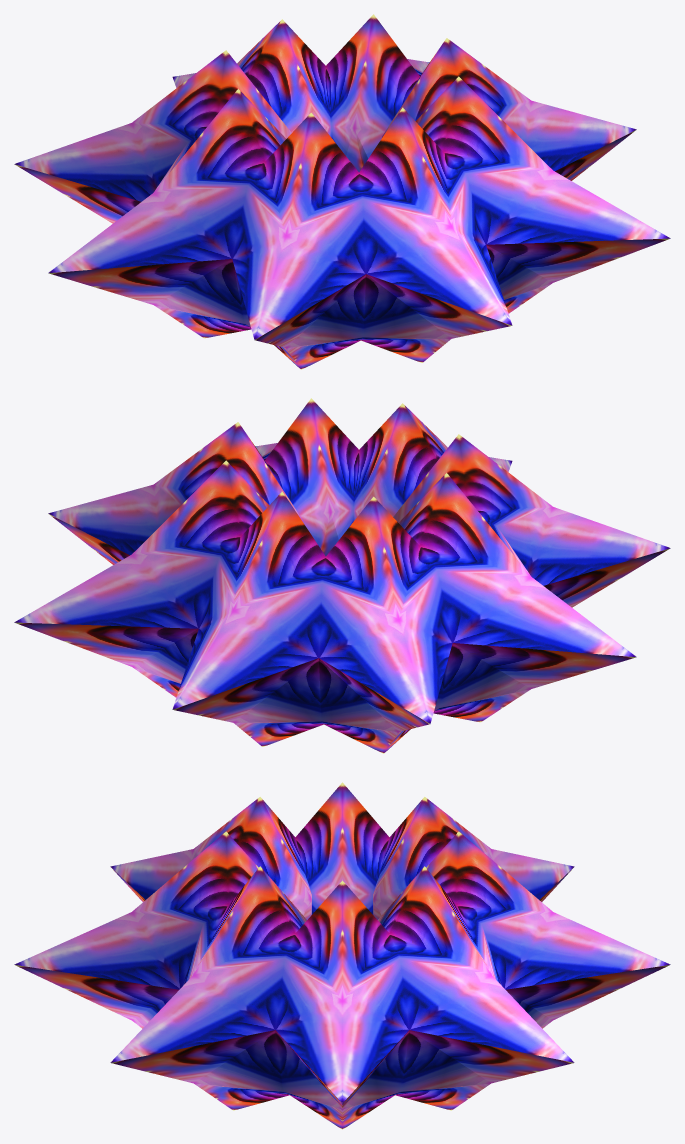
File: ufo-11.fbx
The picture shows the model from 3 angles, top to bottom: view 1: azimuth 30°, elevation 25°; view 2: azimuth 150°, elevation 25°; view 3: azimuth 270°, elevation 25°; orthographic projection. The views are drawn at different scales.
Visible parts, largest first — view 1: ufo-11; view 2: ufo-11; view 3: ufo-11.
Part boxes in pixels (x1,y1,x2,y2): ufo-11: [14, 14, 670, 369]; ufo-11: [14, 398, 670, 753]; ufo-11: [14, 782, 670, 1129].
Bounding box in the file's own units: 86.48 × 33.88 × 86.48.
